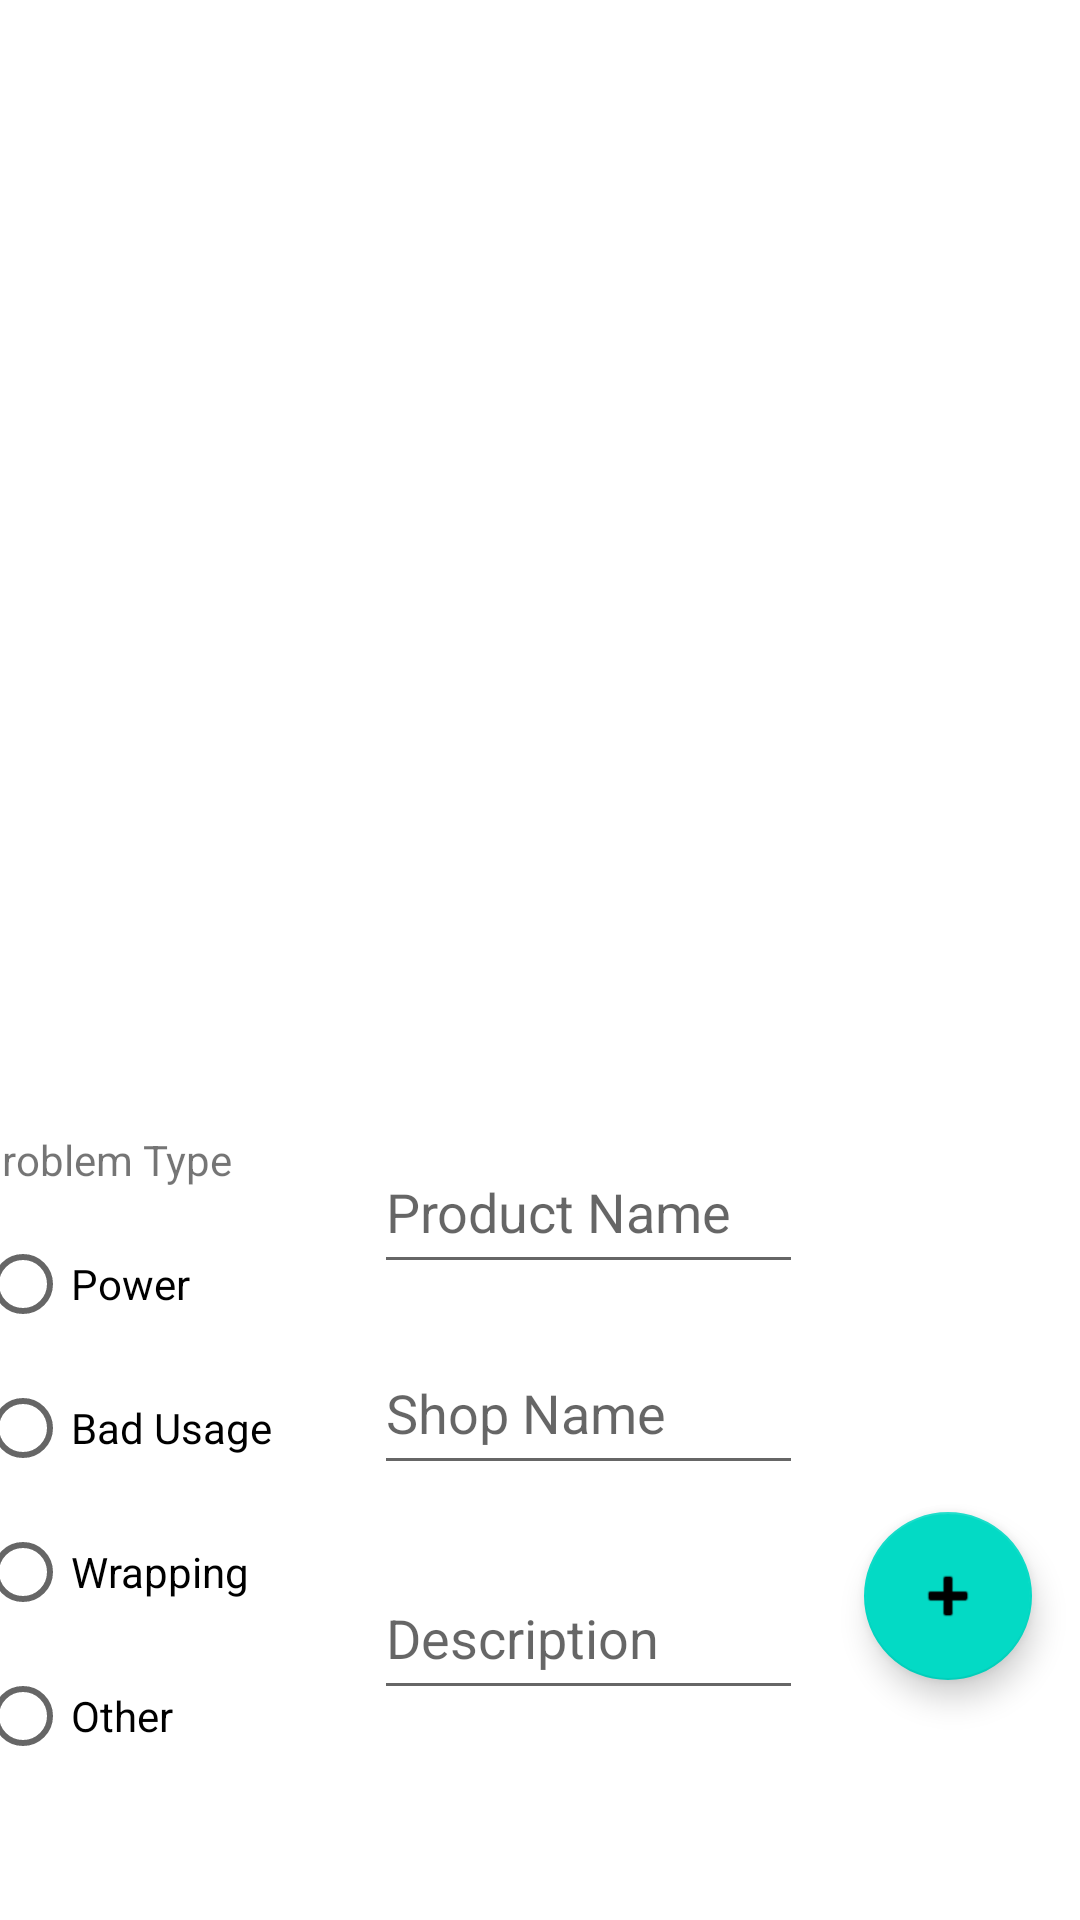

Where icons sit on this 1080 x 1920 app screen, as (x1, y1, x2, y2):
add: (864, 1512, 1032, 1680)
